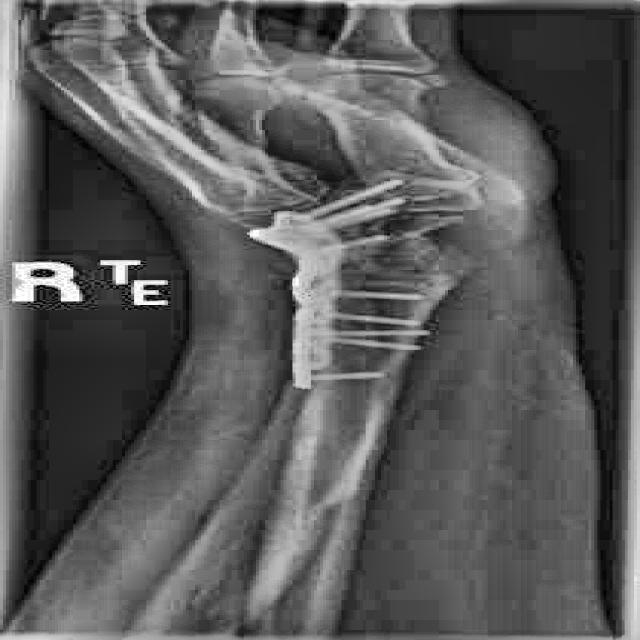fingers positive: (326, 212, 510, 340)
